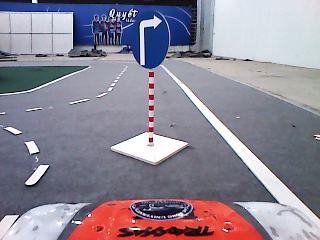turn: (129, 8, 171, 70)
